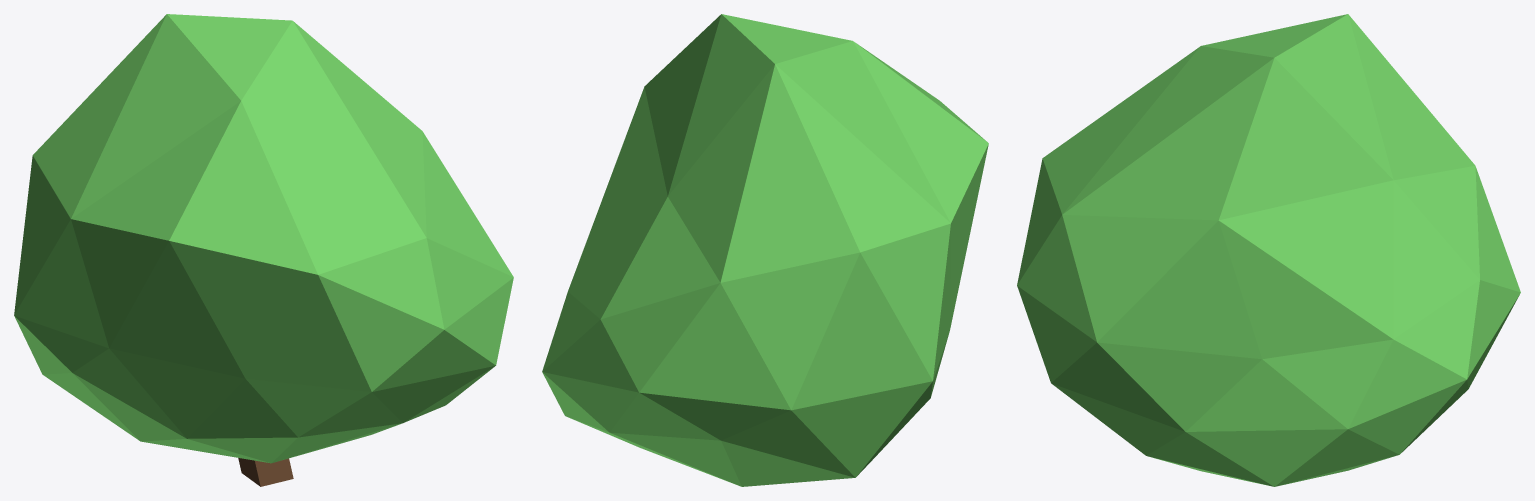
The model's file is Bush01_var1.fbx.
The picture shows the model from 3 angles, left to right: view 1: azimuth 30°, elevation 25°; view 2: azimuth 150°, elevation 25°; view 3: azimuth 270°, elevation 25°; orthographic projection. The views are drawn at different scales.
Parts seen in each view (by area): view 1: Icosphere.006, Cube; view 2: Icosphere.006; view 3: Icosphere.006.
Boxes of the visible parts, x1,y1,x2,y2 form: Icosphere.006: [14, 14, 513, 463]; Cube: [238, 458, 293, 486]; Icosphere.006: [542, 14, 988, 486]; Icosphere.006: [1017, 14, 1520, 486].
Bounding box in the file's own units: 179 × 197 × 212.
